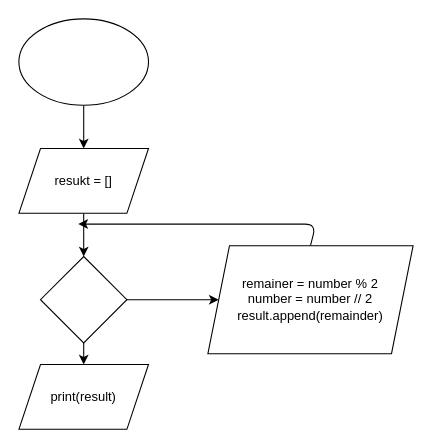
Image size: 432x448. Some labels were removed from this diagram. The shapes that lost their labels are listed below. From the top down, each one's centre as x and y in pixels, then its label:
pixel 83 61: start
pixel 83 299: while number > 0
